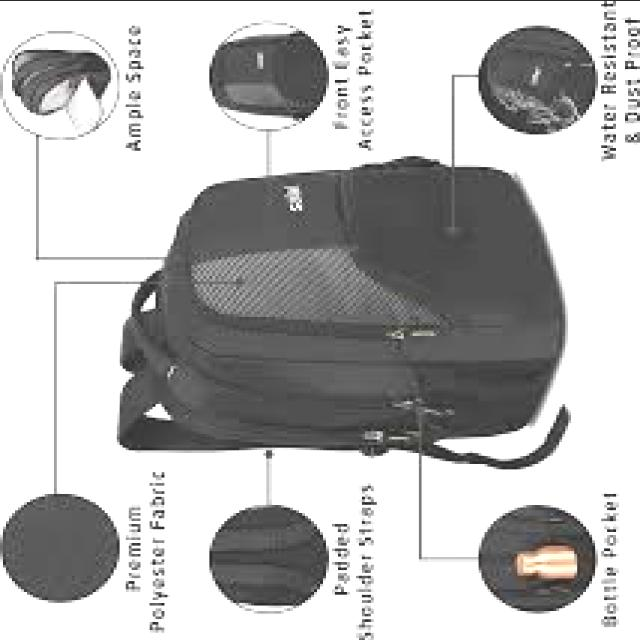backpack: (115, 156, 569, 472)
